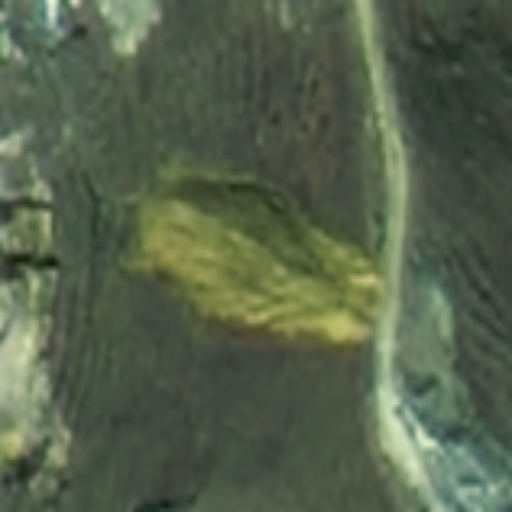landslide: (134, 199, 387, 342)
